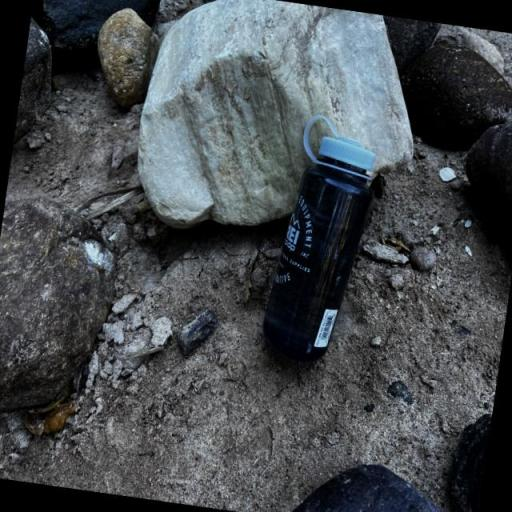bottle: (258, 112, 382, 370)
